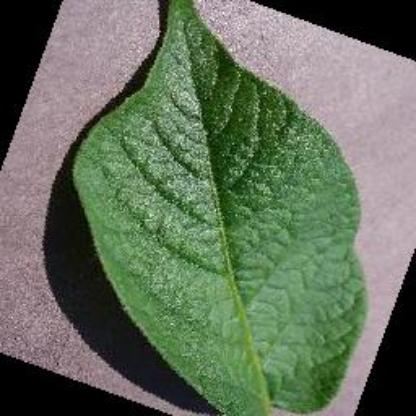Healthy-plant: (61, 0, 373, 412)
